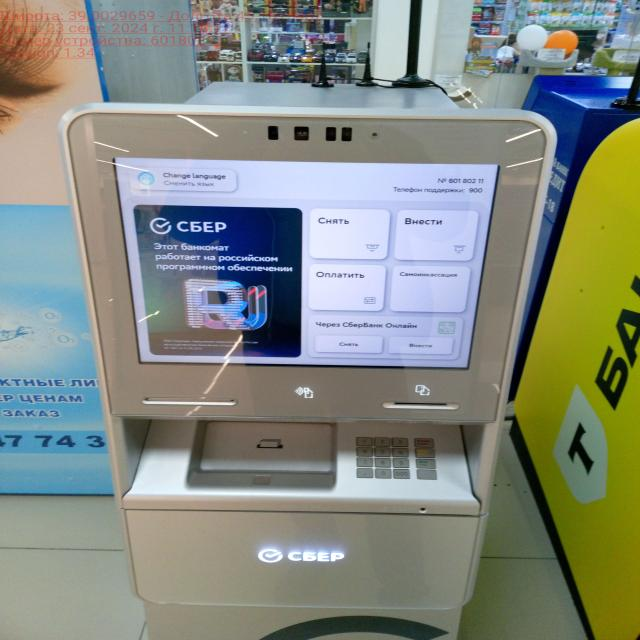bank: (59, 80, 562, 640)
